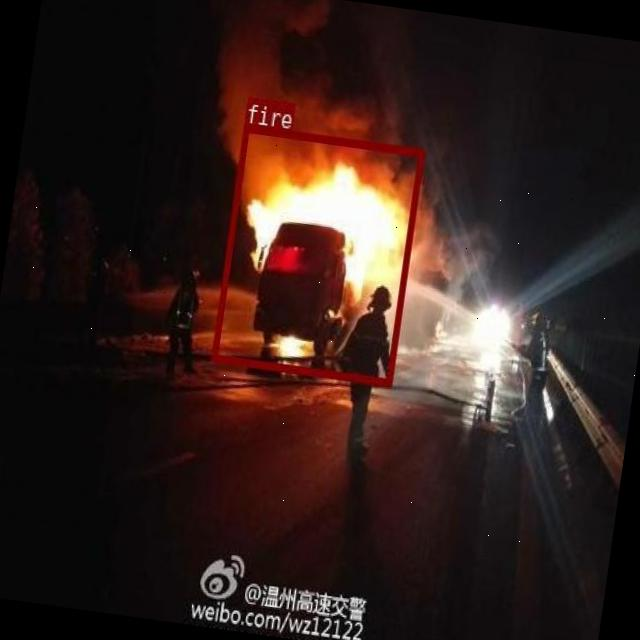fire: (210, 123, 422, 384)
